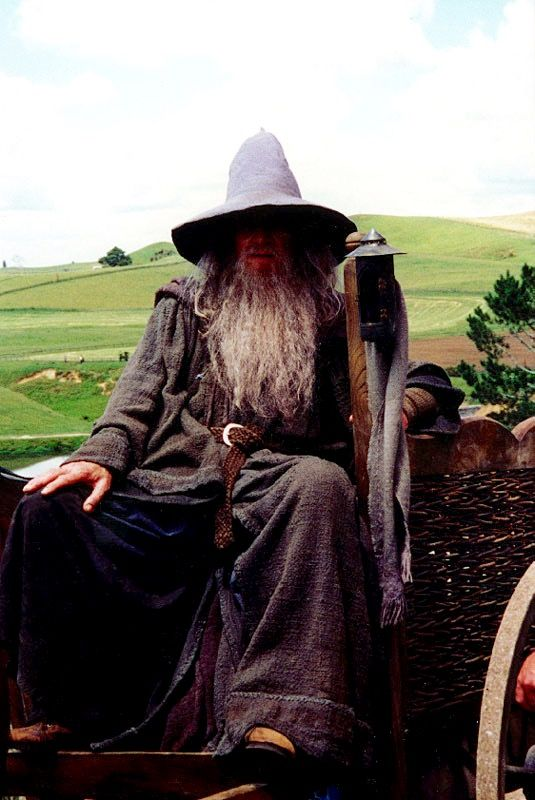gandalf grey: (23, 134, 383, 746)
